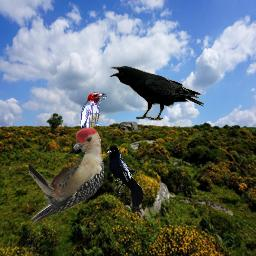Crow: (110, 66, 204, 121), (106, 145, 143, 207)
Woodpecker: (29, 127, 104, 227), (80, 92, 108, 147)
